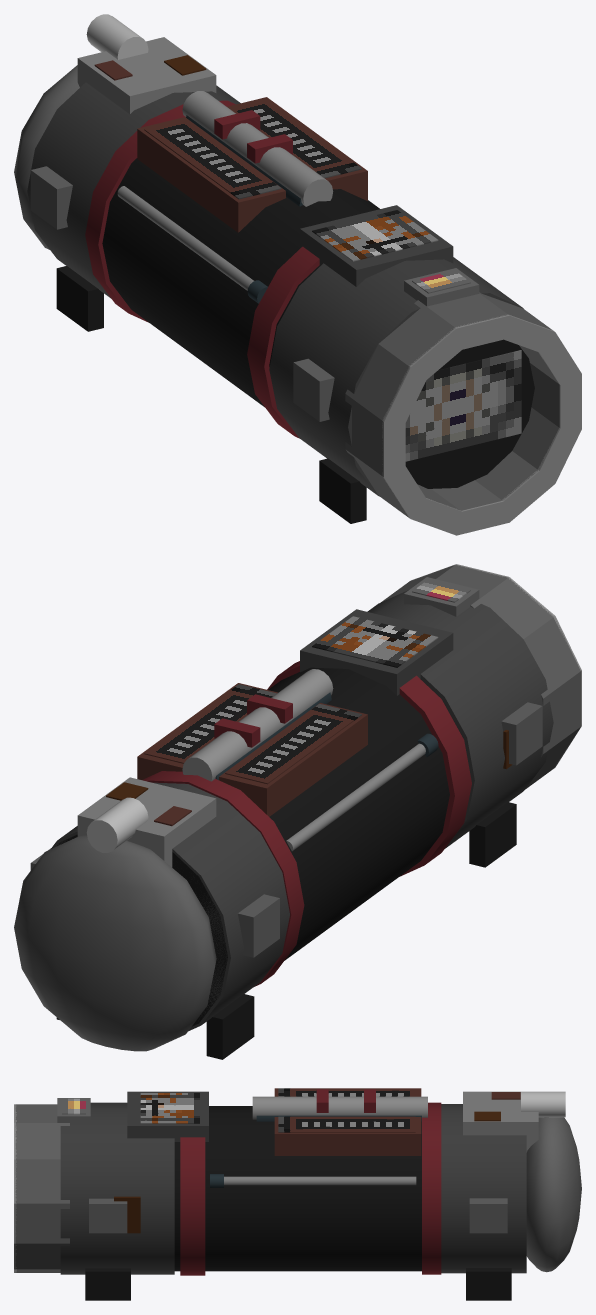
File: CMU3DBiomassTurbine.glb
3 views of the same model, one above another, from view 1: azimuth 30°, elevation 25°; view 2: azimuth 150°, elevation 25°; view 3: azimuth 270°, elevation 25° (orthographic). The views are drawn at different scales.
Parts seen in each view (by area): view 1: long axial dark turbine casing, front metallic bearing housing, rear metallic bearing housing, original intake rotor pixels, rear top bearing block, south intake dark recessed backing, left recessed vent-bank plinth, low bearing pedestal foot (×2), central metallic conduit, front burgundy casing collar, original left service grille, side lug matching separate support entity (×2) (+33 smaller); view 2: rounded rear end head, long axial dark turbine casing, front metallic bearing housing, rear metallic bearing housing, front burgundy casing collar, rear top bearing block, low bearing pedestal foot (×2), left recessed vent-bank plinth, rear burgundy casing collar, central metallic conduit, original left service grille, front bearing top block (+15 smaller); view 3: long axial dark turbine casing, front metallic bearing housing, rear metallic bearing housing, rounded rear end head, right recessed vent-bank plinth, front burgundy casing collar, rear burgundy casing collar, central metallic conduit, low bearing pedestal foot (×2), side lug matching separate support entity (×2), rear top bearing block, original right service grille (+17 smaller).
Part boxes in pixels (<box>): long axial dark turbine casing: <box>102,158,379,407</box>; front metallic bearing housing: <box>269,257,523,496</box>; rear metallic bearing housing: <box>27,82,240,298</box>; original intake rotor pixels: <box>405,350,521,461</box>; rear top bearing block: <box>77,37,216,113</box>; south intake dark recessed backing: <box>405,339,534,488</box>; left recessed vent-bank plinth: <box>137,117,285,232</box>; low bearing pedestal foot (×2): <box>56,266,366,523</box>; central metallic conduit: <box>182,91,333,206</box>; front burgundy casing collar: <box>247,246,319,438</box>; original left service grille: <box>144,119,281,199</box>; side lug matching separate support entity (×2): <box>30,166,334,421</box>; rounded rear end head: <box>14,835,216,1051</box>; long axial dark turbine casing: <box>57,667,463,1026</box>; front metallic bearing housing: <box>367,589,553,848</box>; rear metallic bearing housing: <box>51,782,289,1031</box>; front burgundy casing collar: <box>267,661,471,876</box>; rear top bearing block: <box>77,777,216,867</box>; low bearing pedestal foot (×2): <box>206,802,516,1059</box>; left recessed vent-bank plinth: <box>219,703,367,816</box>; rear burgundy casing collar: <box>142,771,304,986</box>; central metallic conduit: <box>182,669,333,781</box>; original left service grille: <box>225,704,361,784</box>; front bearing top block: <box>300,609,453,695</box>; long axial dark turbine casing: <box>174,1106,421,1271</box>; front metallic bearing housing: <box>60,1102,174,1274</box>; rear metallic bearing housing: <box>441,1104,526,1273</box>; rounded rear end head: <box>526,1117,581,1272</box>; right recessed vent-bank plinth: <box>274,1117,421,1155</box>; front burgundy casing collar: <box>180,1137,205,1275</box>; rear burgundy casing collar: <box>422,1102,441,1274</box>; central metallic conduit: <box>252,1096,427,1119</box>; low bearing pedestal foot (×2): <box>85,1268,511,1300</box>; side lug matching separate support entity (×2): <box>89,1198,507,1233</box>; rear top bearing block: <box>463,1091,538,1152</box>; original right service grille: <box>278,1116,415,1132</box>.
Bounding box in the file's own units: 0.98 × 1.04 × 2.99.
Materials: 19 (5 with a texture image).
